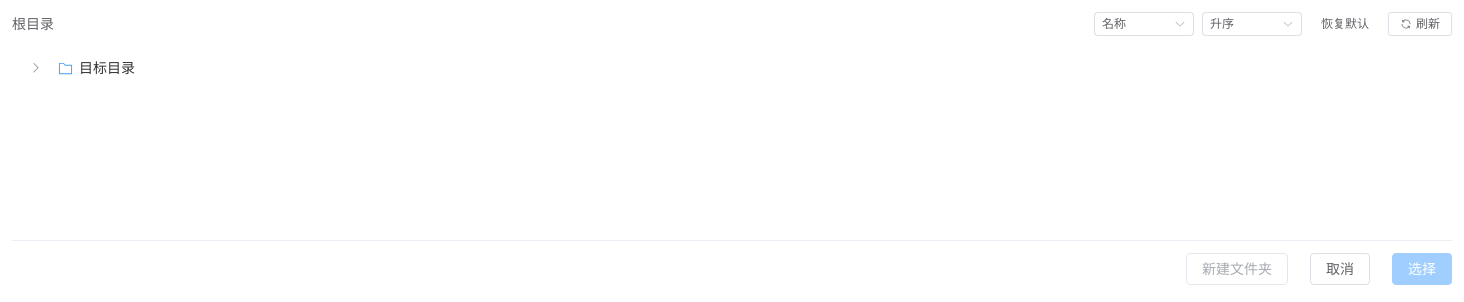
Scenario: directory selector HTTP feedback › classifies child load failure and keeps retry available
This screenshot has width=1464, height=302.
Click the list item "目标目录": (78, 68) [20,52,135,84]
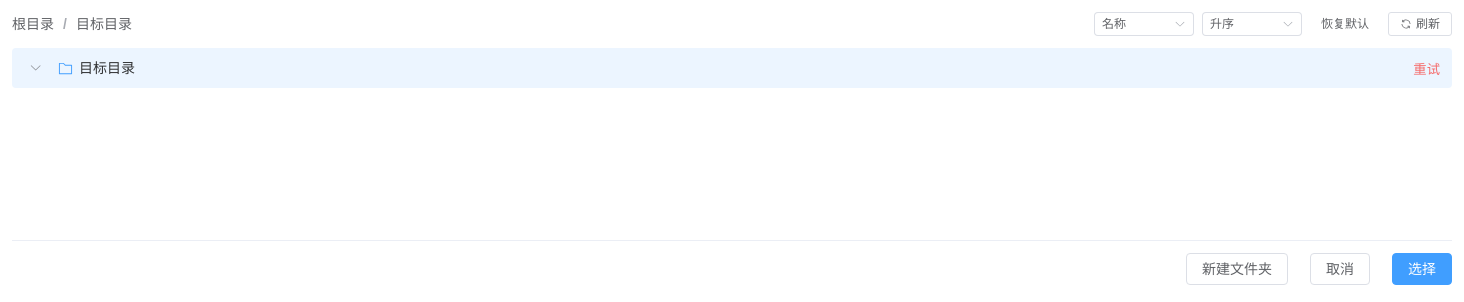
Expected: the list item "目标目录 重试" is expanded, [12,48,1452,88]
Expected: the text "重试" is shown, [1409,56,1444,80]
